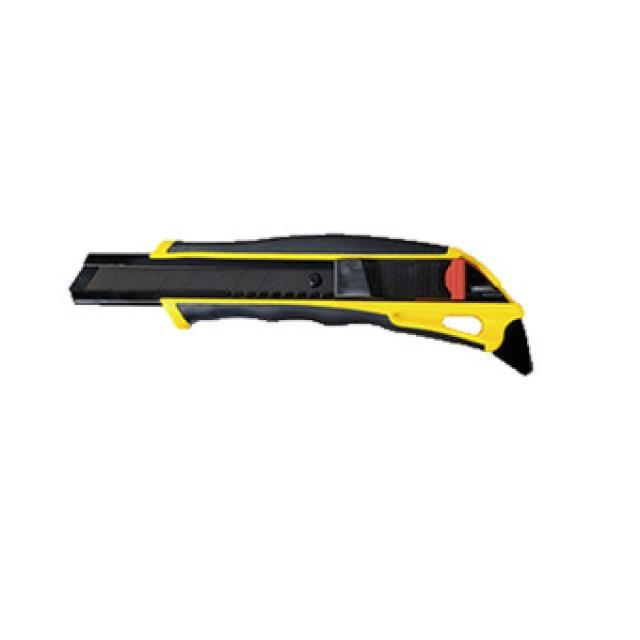cutter: (57, 230, 547, 370)
